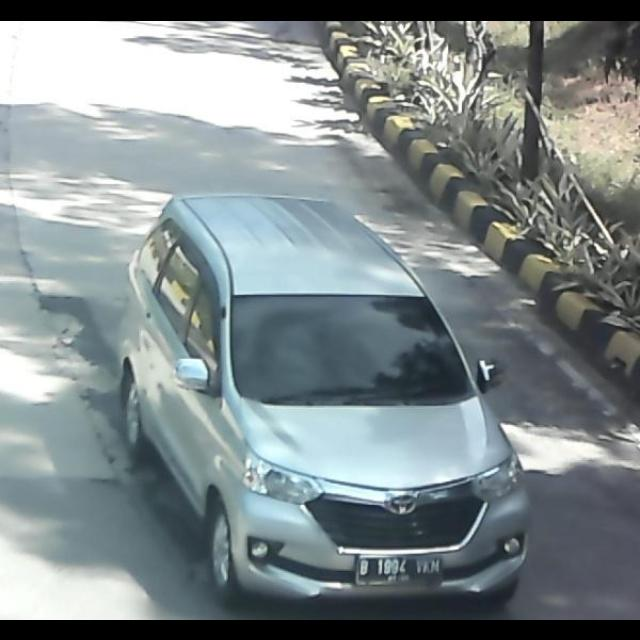plate: (352, 551, 450, 586)
